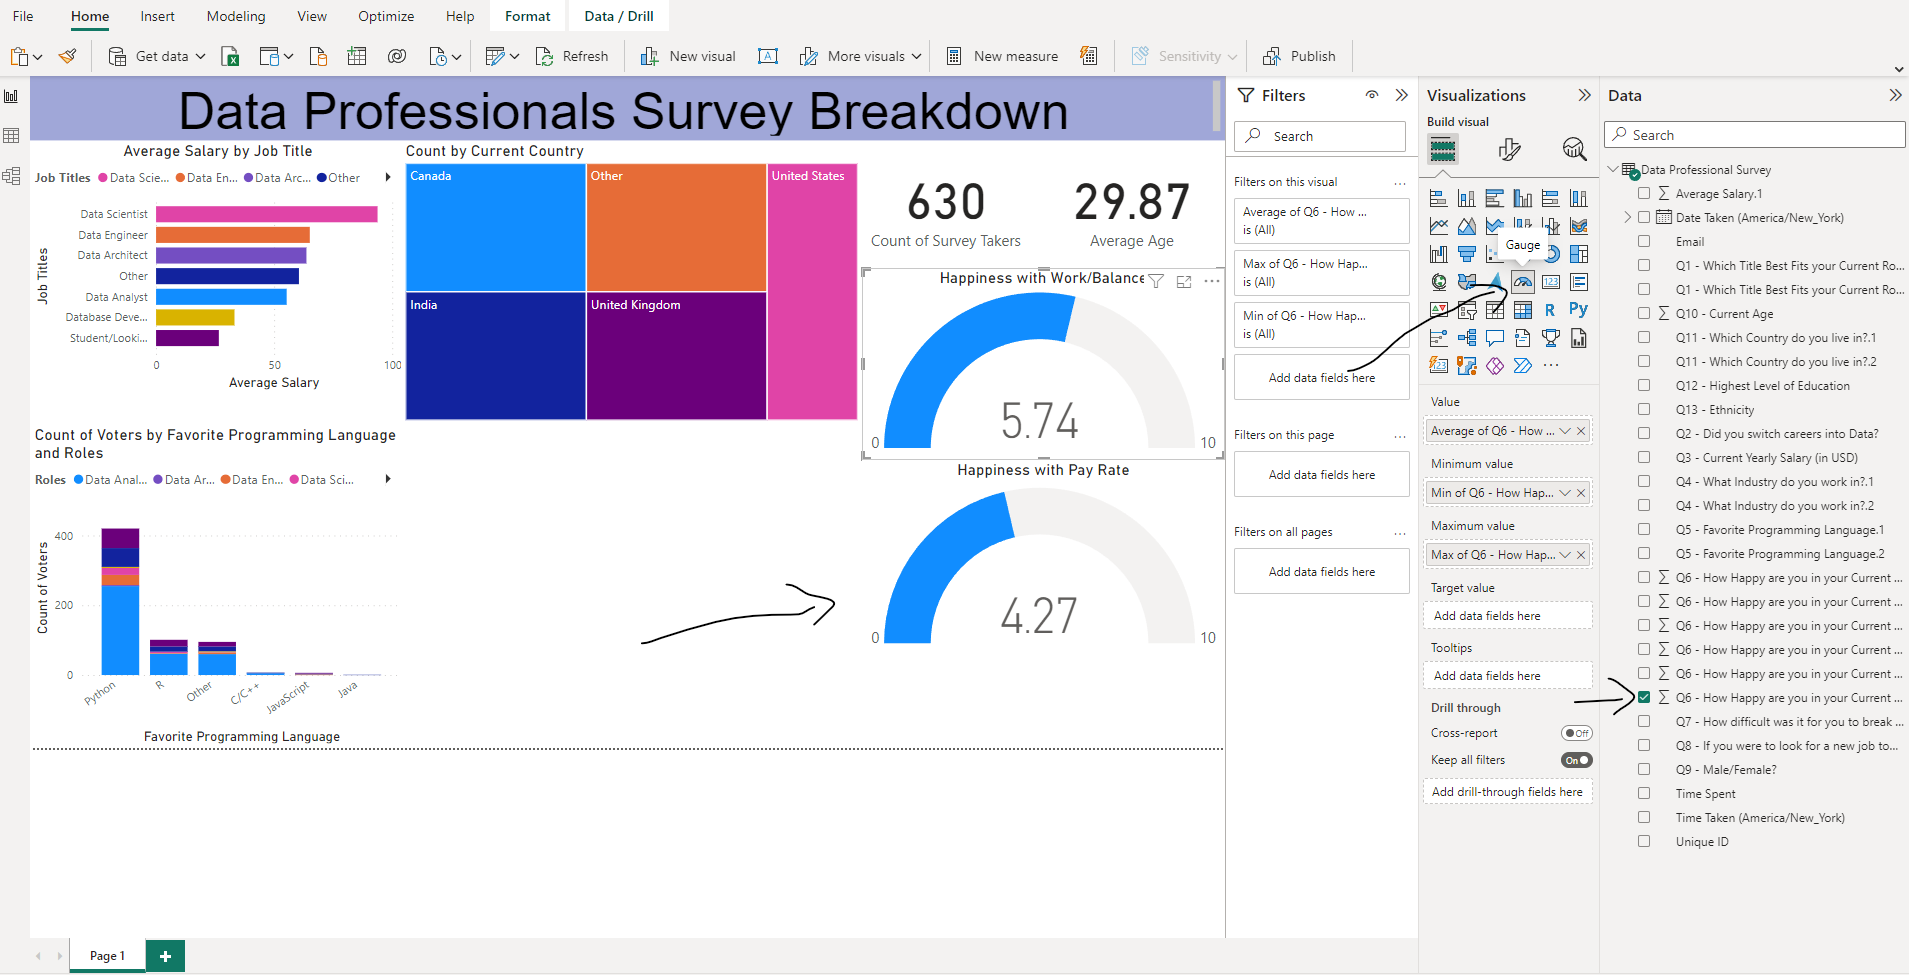

What the dashboard file says about the page in this screenshot:
{"tool":"powerbi","page":{"name":"Page 1","canvas":[1280,720],"ordinal":0},"visuals":[{"type":"textbox","box":[0,0,1280,69.4],"z":0},{"type":"card","fields":{"Values":["Count(Data Professional Survey.Unique ID)"]},"box":[891.2,69.6,199.2,136],"z":1000},{"type":"card","fields":{"Values":["Avg(Data Professional Survey.Q10 - Current Age)"]},"box":[1080.9,69.5,199.1,135.9],"z":2000},{"type":"barChart","title":"Average Salary by Job Title","fields":{"Category":["Data Professional Survey.Q1 - Which Title Best Fits your Current Role?.1"],"Y":["Avg(Data Professional Survey.Average Salary.1)"],"Series":["Data Professional Survey.Q1 - Which Title Best Fits your Current Role?.1"]},"box":[453.1,69.6,452,282.8],"z":3000},{"type":"columnChart","fields":{"Category":["Data Professional Survey.Q5 - Favorite Programming Language.1"],"Y":["CountNonNull(Data Professional Survey.Unique ID)"],"Series":["Data Professional Survey.Q1 - Which Title Best Fits your Current Role?.1"]},"box":[0,352.4,402.7,367.4],"z":4000},{"type":"treemap","fields":{"Group":["Data Professional Survey.Q11 - Which Country do you live in?.1"],"Values":["Count(Data Professional Survey.Q11 - Which Country do you live in?.1)"]},"box":[0,70,452.7,282.4],"z":5000},{"type":"gauge","title":"Happiness with Work/Balance","fields":{"Y":["Avg(Data Professional Survey.Q6 - How Happy are you in your Current Position with the following? (Work/Life Balance))"],"MinValue":["Min(Data Professional Survey.Q6 - How Happy are you in your Current Position with the following? (Work/Life Balance))1"],"MaxValue":["Max(Data Professional Survey.Q6 - How Happy are you in your Current Position with the following? (Work/Life Balance))2"]},"box":[891.2,227.1,388.8,205.7],"z":6000},{"type":"gauge","title":"Happiness with Pay Rate","fields":{"Y":["Avg(Data Professional Survey.Q6 - How Happy are you in your Current Position with the following? (Salary))"],"MinValue":["Min(Data Professional Survey.Q6 - How Happy are you in your Current Position with the following? (Salary))"],"MaxValue":["Max(Data Professional Survey.Q6 - How Happy are you in your Current Position with the following? (Salary))1"]},"box":[891.2,486.3,388.8,233.5],"z":7000},{"type":"donutChart","title":"Average Salary by Gender","fields":{"Category":["Data Professional Survey.Q7 - How difficult was it for you to break into Data?"],"Y":["CountNonNull(Data Professional Survey.Q7 - How difficult was it for you to break into Data?)"]},"box":[403,356.6,488.1,358.3],"z":8000}]}

Visuals, with their boxes on the page's 1280x720 design canvas (x1, y1, x2, y2). These are canvas units, not pixel positions in the 1909x975 screenshot, which may show the page scaled, cropped or inside an application window:
textbox: bbox=[0, 0, 1280, 69]
card - Count(Data Professional Survey.Unique ID): bbox=[891, 70, 1090, 206]
card - Avg(Data Professional Survey.Q10 - Current Age): bbox=[1081, 70, 1280, 205]
"Average Salary by Job Title" barChart: bbox=[453, 70, 905, 352]
columnChart - Data Professional Survey.Q5 - Favorite Programming Language.1 x CountNonNull(Data Professional Survey.Unique ID): bbox=[0, 352, 403, 720]
treemap - Data Professional Survey.Q11 - Which Country do you live in?.1 x Count(Data Professional Survey.Q11 - Which Country do you live in?.1): bbox=[0, 70, 453, 352]
"Happiness with Work/Balance" gauge: bbox=[891, 227, 1280, 433]
"Happiness with Pay Rate" gauge: bbox=[891, 486, 1280, 720]
"Average Salary by Gender" donutChart: bbox=[403, 357, 891, 715]
